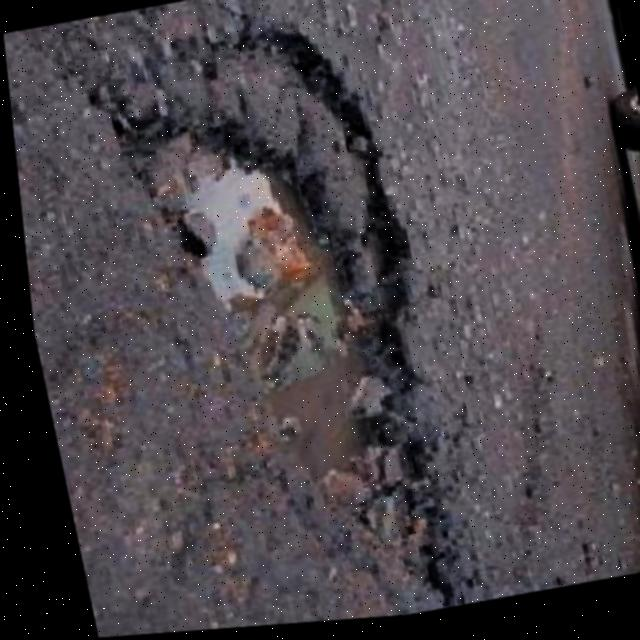Pothole: (67, 9, 480, 636)
